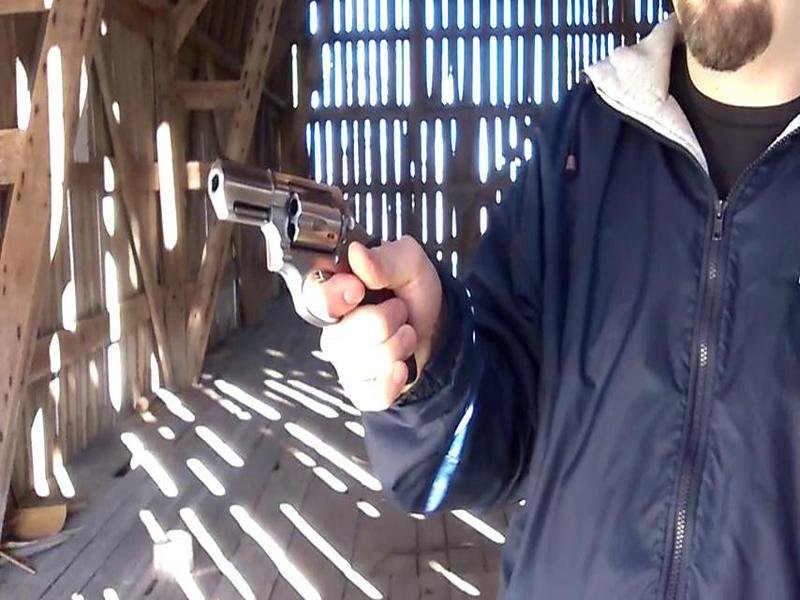Revolver: (204, 143, 407, 329)
